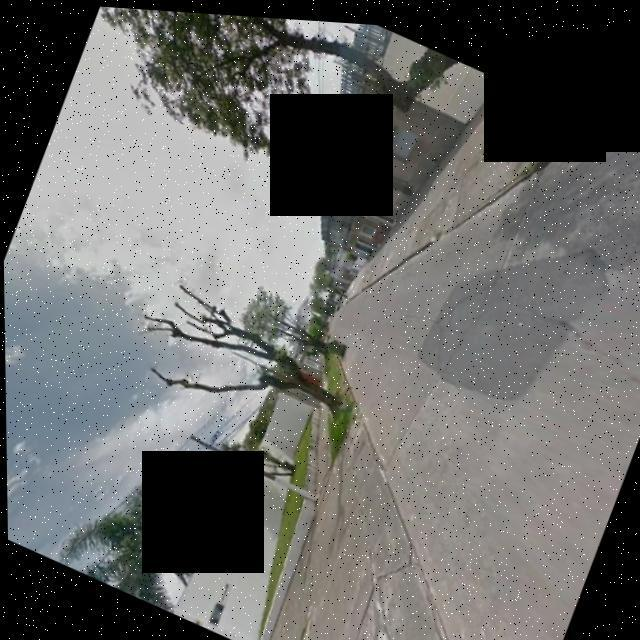bin: (319, 327, 354, 361)
